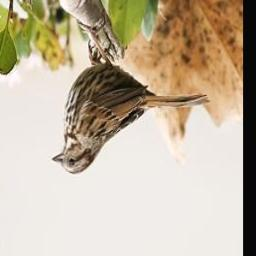Sparrow: (53, 19, 210, 177)
